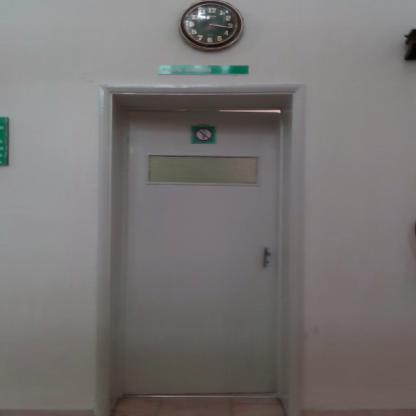door: (126, 107, 281, 396)
